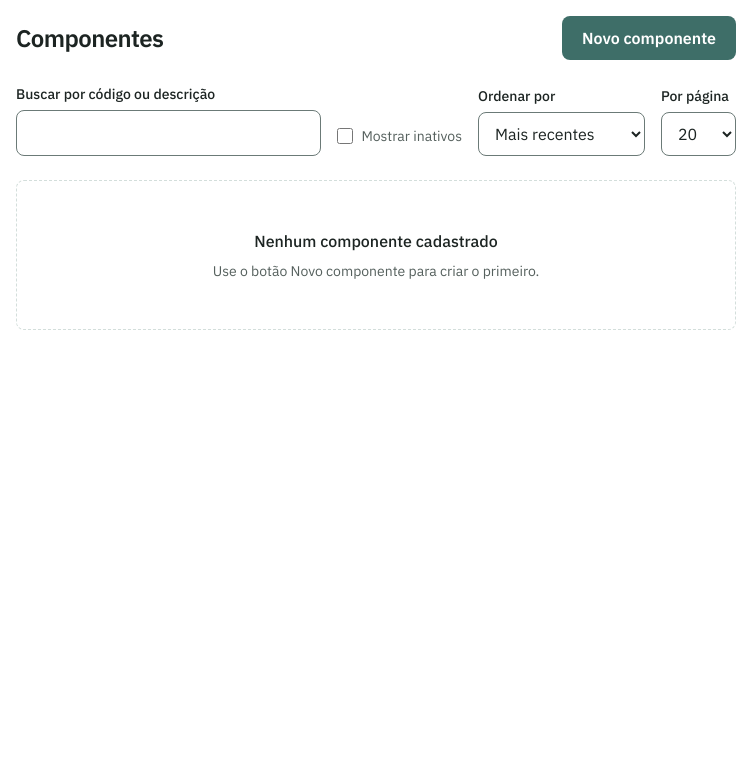
Test: ComponentesPage › mostra mensagem de erro quando reativar falha
Click the button "Novo componente" at (649, 38), box [562,16,736,60]
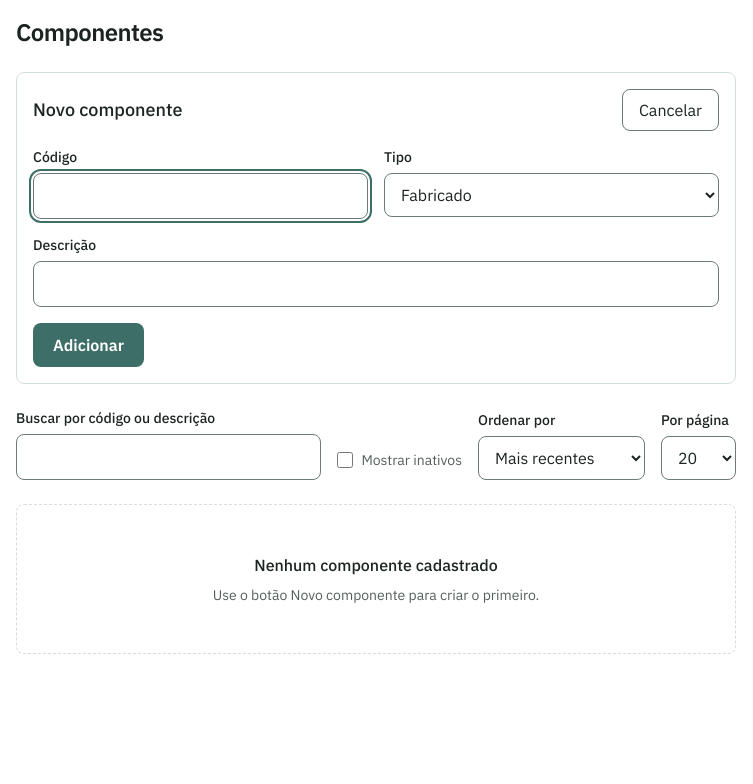
Type "SUP-001" into the field labelled "Código" at (200, 196), box [33,173,368,219]
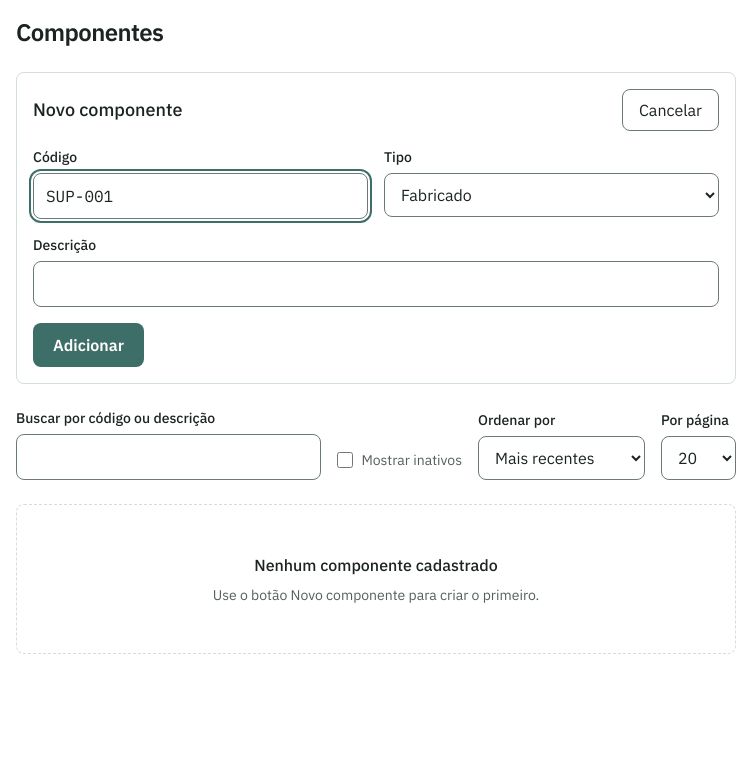
Type "Suporte" into the field labelled "Descrição" at (376, 284), box [33,261,719,307]
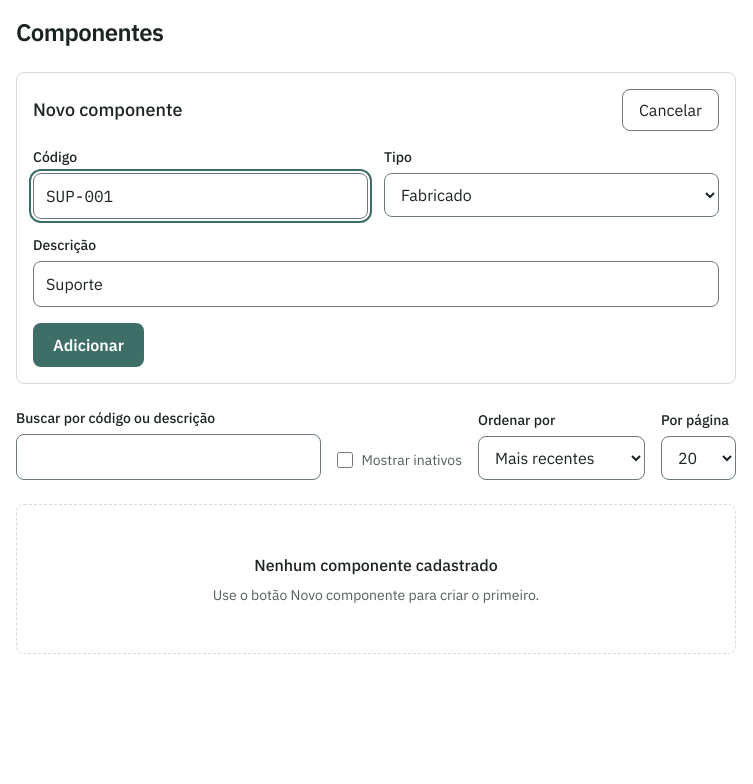
Click the button "Adicionar" at (88, 345), box [33,323,144,367]
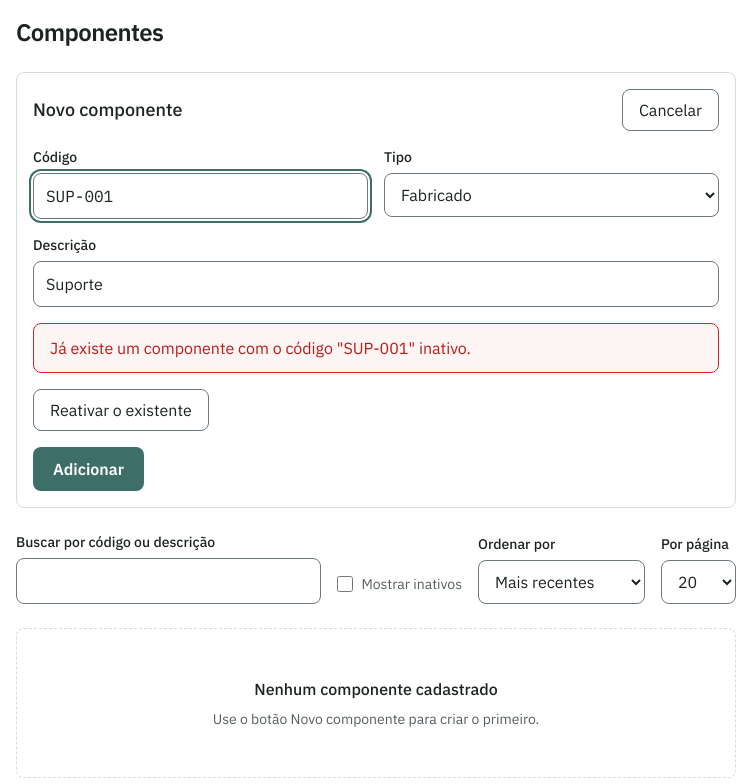
Click the button "Reativar o existente" at (121, 410), box [33,389,209,431]
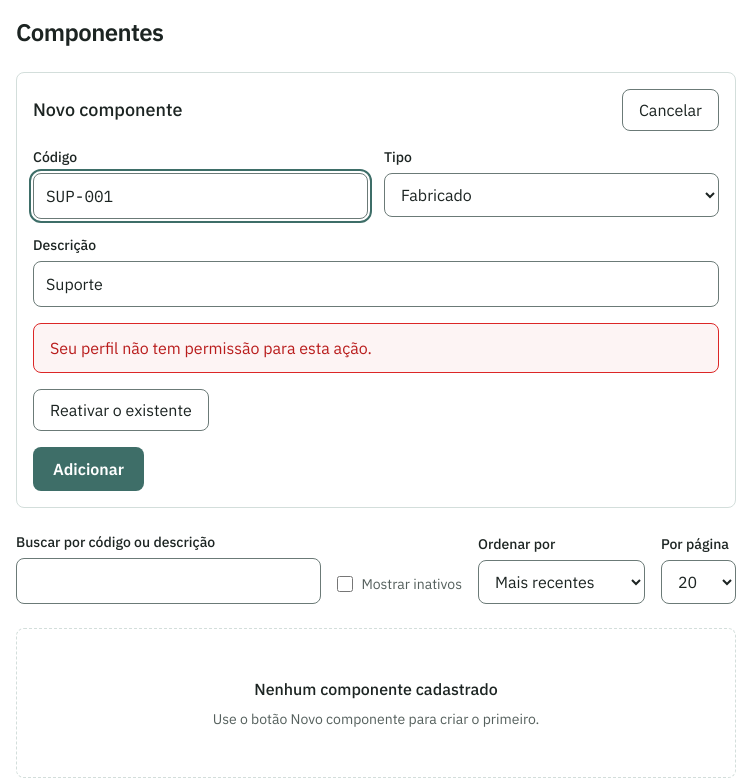
Check: the text "Seu perfil não tem permissão para esta ação." is shown, box [33,323,719,373]
